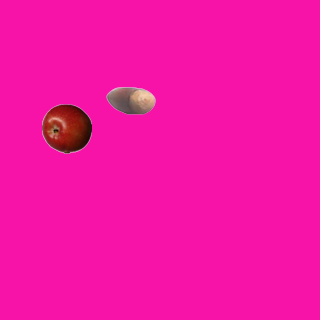Apple Braeburn: (41, 103, 91, 153)
Hazelnut: (105, 75, 155, 125)
